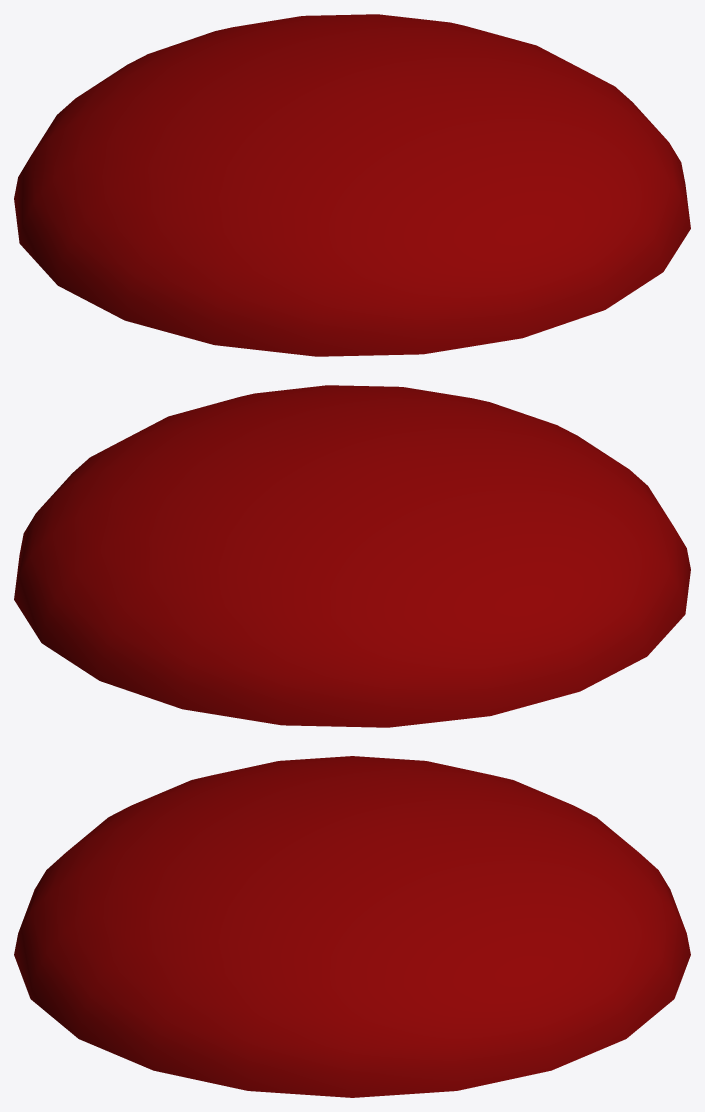
The model's file is Red Button.fbx.
The picture shows the model from 3 angles, top to bottom: view 1: azimuth 30°, elevation 25°; view 2: azimuth 150°, elevation 25°; view 3: azimuth 270°, elevation 25°; orthographic projection.
Parts seen in each view (by area): view 1: pSphere1; view 2: pSphere1; view 3: pSphere1.
Part boxes in pixels (x1,y1,x2,y2): pSphere1: (14, 14, 690, 356); pSphere1: (14, 385, 690, 727); pSphere1: (14, 756, 690, 1097).
Bounding box in the file's own units: 0.5858 × 0.132 × 0.5858.
